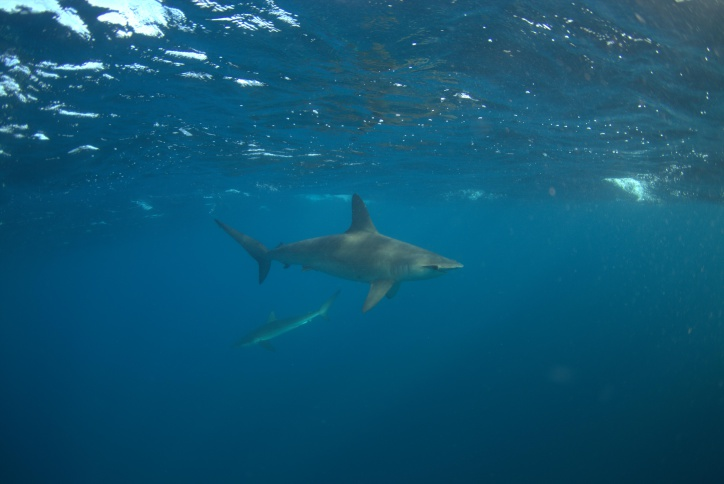Sedoso: (229, 287, 345, 360)
